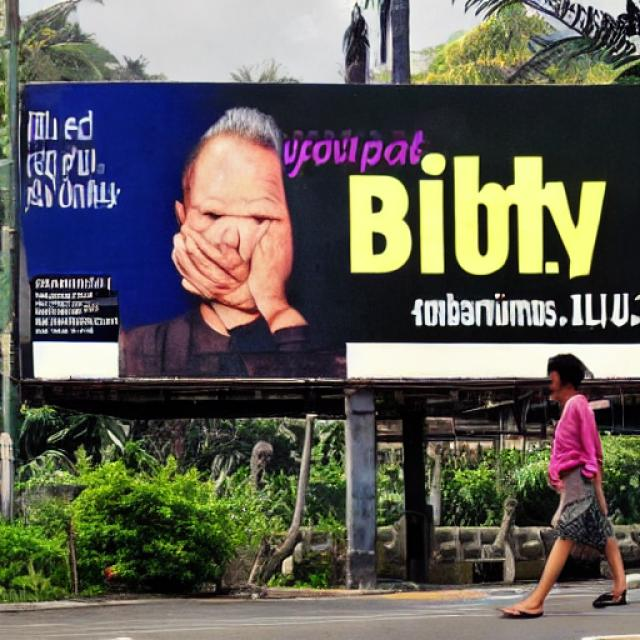Billboard: (18, 78, 640, 396)
